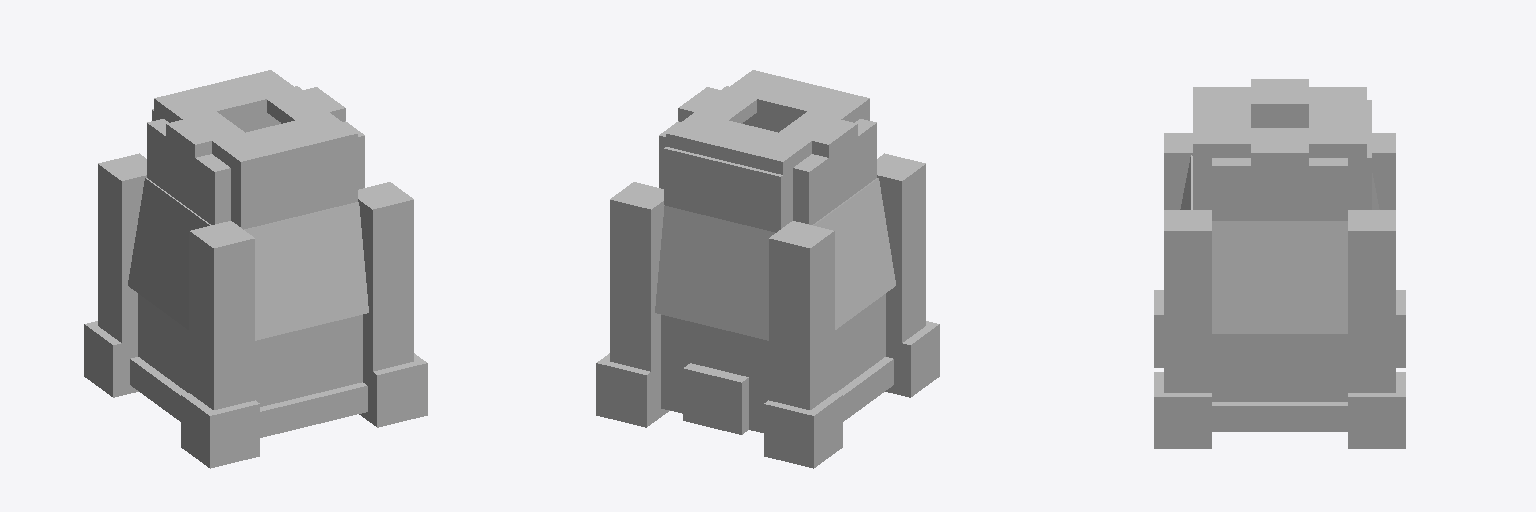
The model's file is crucible.obj.
3 views of the same model, side by side, from view 1: azimuth 30°, elevation 25°; view 2: azimuth 150°, elevation 25°; view 3: azimuth 270°, elevation 25° (orthographic).
Parts seen in each view (by area): view 1: wall4, c4p3, bottom, c1p3, c3p3, top4, wall2, cap7, top2, base, c4p1, cap5 (+5 smaller); view 2: wall3, c3p3, c2p3, bottom, top3, c4p3, wall2, cap5, top2, c3p1, cap7, a (+6 smaller); view 3: wall1, bottom, c1p3, c2p3, top1, cap7, cap5, base, c1p1, c2p1, cap8, cap6 (+7 smaller).
Boxes of the visible parts, x1,y1,x2,y2 form: wall4: [244, 202, 368, 340]; c4p3: [189, 221, 254, 409]; bottom: [138, 294, 362, 406]; c1p3: [358, 182, 413, 371]; c3p3: [98, 153, 146, 342]; top4: [231, 147, 357, 229]; wall2: [128, 178, 210, 329]; cap7: [212, 112, 357, 174]; top2: [147, 119, 230, 224]; base: [130, 357, 367, 437]; c4p1: [181, 393, 259, 468]; cap5: [154, 70, 298, 122]; wall3: [655, 206, 774, 340]; c3p3: [769, 221, 834, 409]; c2p3: [610, 182, 664, 371]; bottom: [661, 294, 885, 406]; top3: [664, 147, 792, 232]; c4p3: [877, 153, 925, 342]; wall2: [813, 178, 895, 329]; cap5: [666, 112, 811, 174]; top2: [793, 119, 876, 224]; c3p1: [764, 393, 842, 468]; cap7: [725, 70, 869, 122]; a: [683, 363, 748, 434]; wall1: [1212, 221, 1347, 333]; bottom: [1212, 334, 1347, 401]; c1p3: [1164, 210, 1211, 392]; c2p3: [1348, 210, 1395, 392]; top1: [1212, 158, 1347, 220]; cap7: [1193, 87, 1250, 157]; cap5: [1309, 87, 1366, 157]; base: [1212, 402, 1347, 431]; c1p1: [1154, 372, 1211, 448]; c2p1: [1348, 372, 1405, 448]; cap8: [1251, 128, 1308, 165]; cap6: [1251, 79, 1308, 116].
Bounding box in the file's own units: 3.25 × 4 × 3.25.